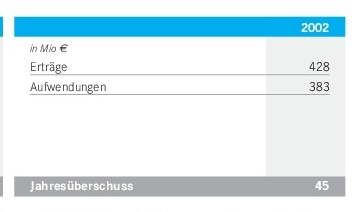table: (0, 0, 357, 212)
